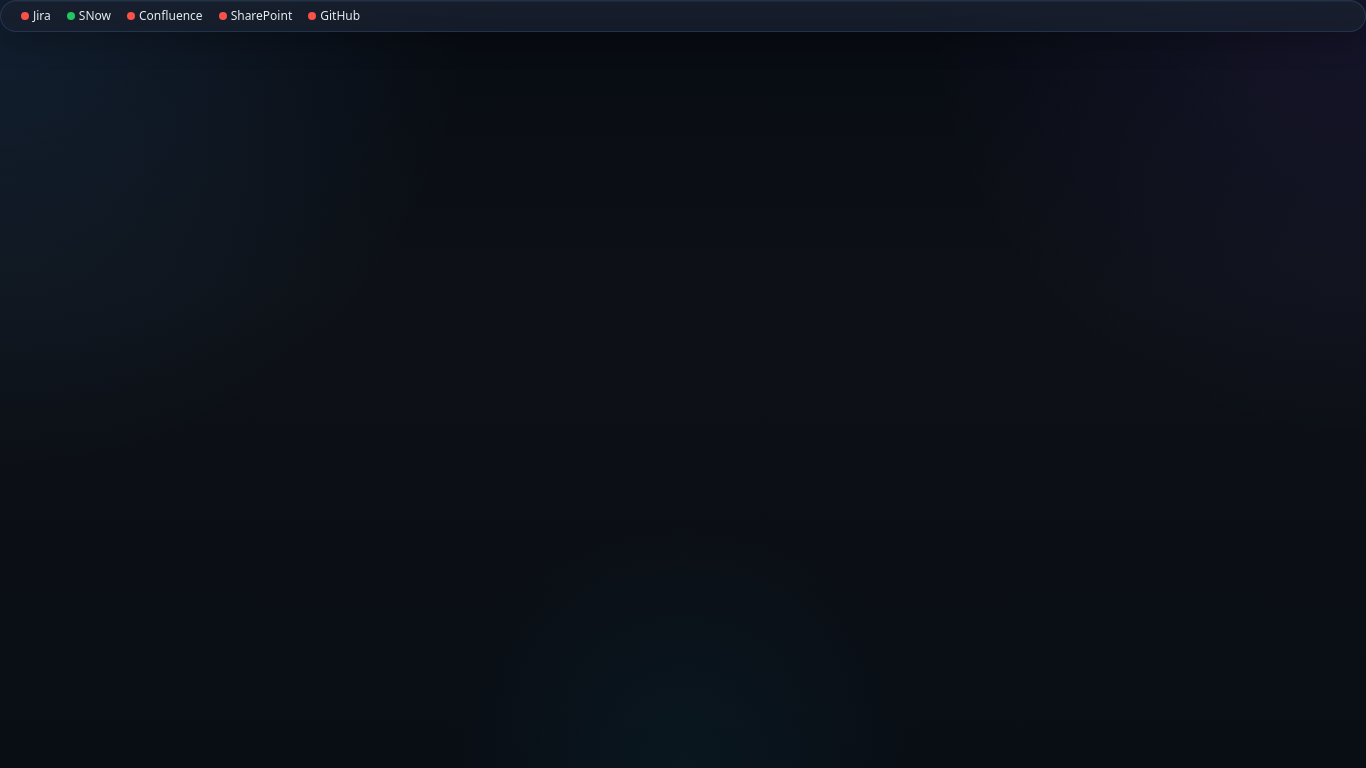
it: ConnectionBar › warns when the SNow relay is active before the g_ck token is ready
The image size is (1366, 768).
Click the button "SNow": (89, 16) left=63, top=5, right=115, bottom=27
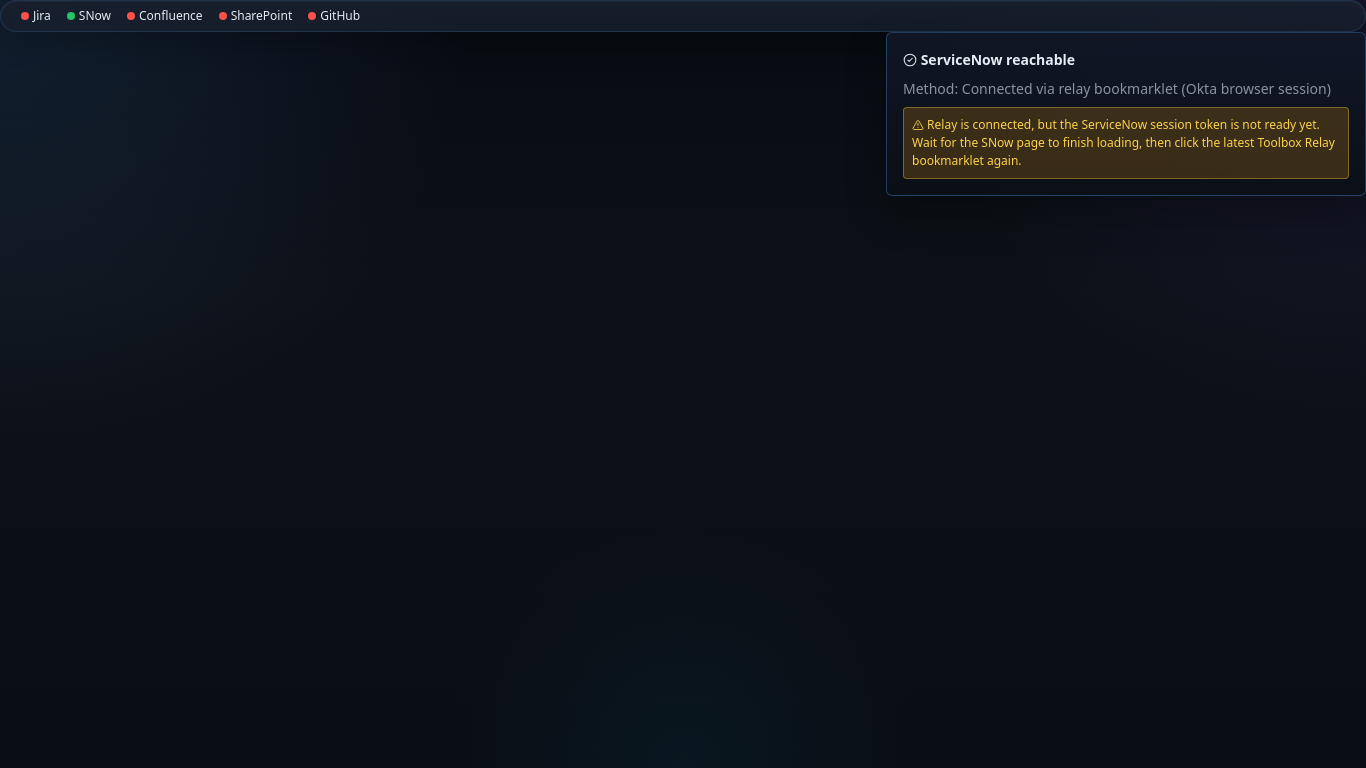
Expected: the text "session token is not ready" is shown, left=912, top=116, right=1335, bottom=169
